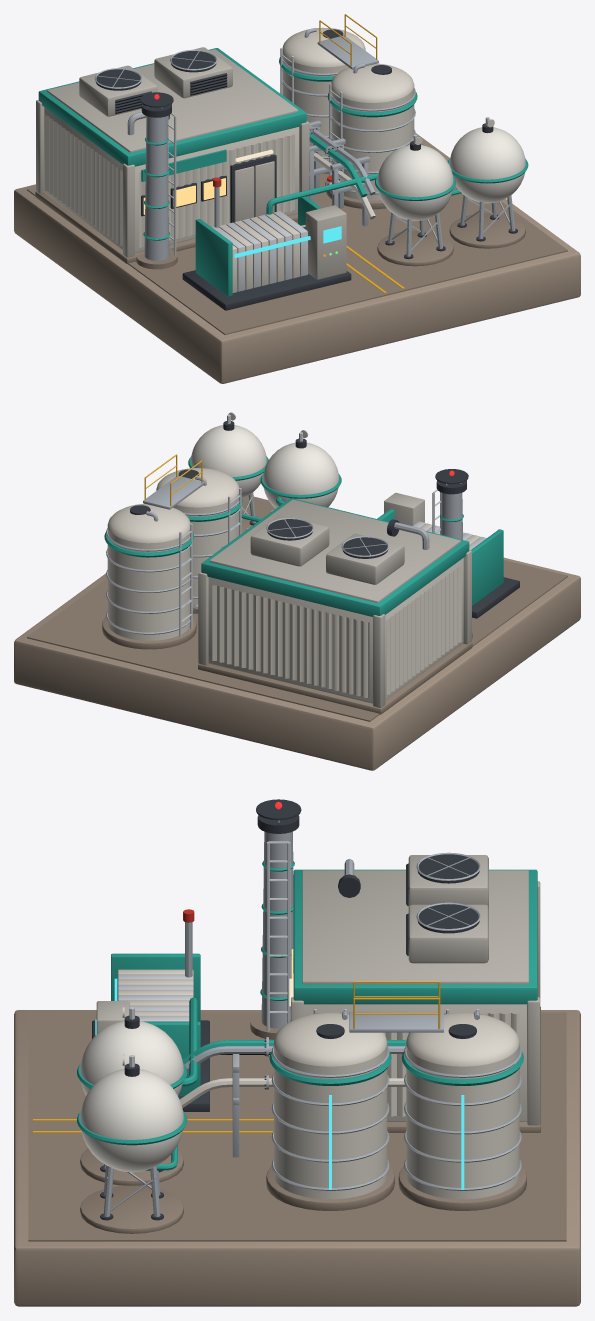
Rendered from life_support.glb.
3 renders of one model, top to bottom at view 1: azimuth 30°, elevation 25°; view 2: azimuth 150°, elevation 25°; view 3: azimuth 270°, elevation 25°, orthographic. The views are drawn at different scales.
Parts seen in each view (by area): view 1: life_support; view 2: life_support; view 3: life_support.
Boxes of the visible parts, x1,y1,x2,y2 form: life_support: (14, 14, 580, 383); life_support: (14, 412, 580, 770); life_support: (14, 799, 580, 1306).
Size of the model in its own units: 6 by 3.37 by 6.
